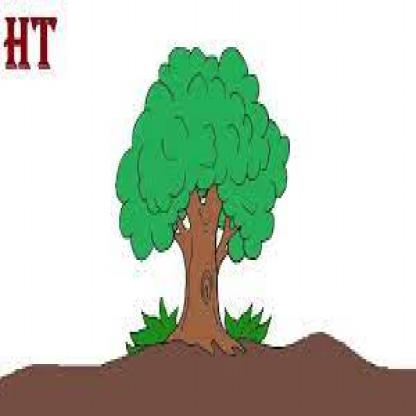branch_cut: (164, 175, 242, 272)
crown_cloud: (112, 32, 290, 266)
root_upside: (164, 318, 246, 372)
trunk_straight: (180, 266, 224, 320)
